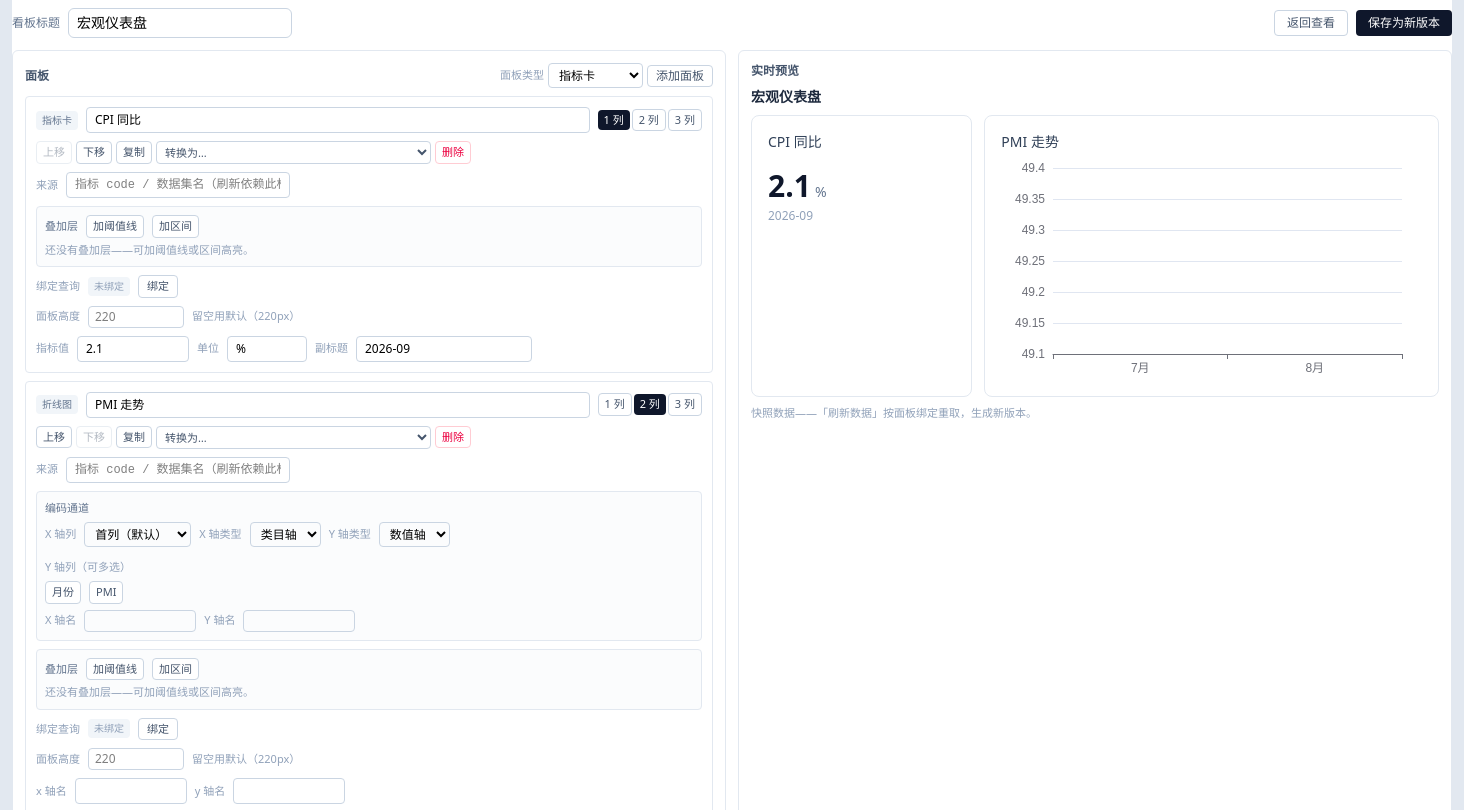
Test: DashboardEditor（基础编辑器 v1） › kpi 表单编辑：值（数字进 snapshot.rows[0][0]）/单位/副标题实时进预览
The image size is (1464, 810).
Replace the text in the field with test id "editor-kpi-value" with "3.4" at (133, 348), box [77, 336, 189, 362]
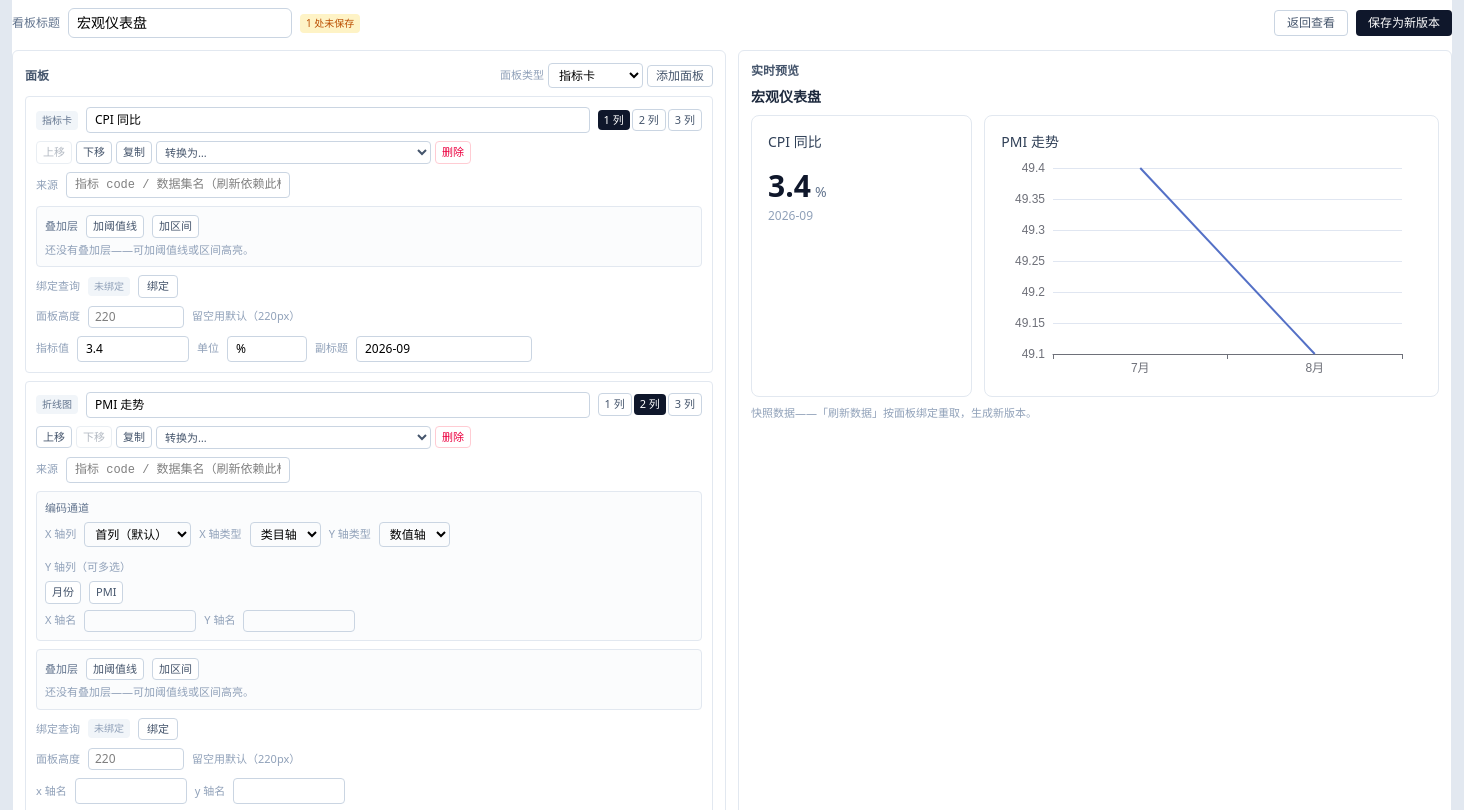
Replace the text in the field with test id "editor-kpi-unit" with "‰" at (267, 348), box [227, 336, 307, 362]
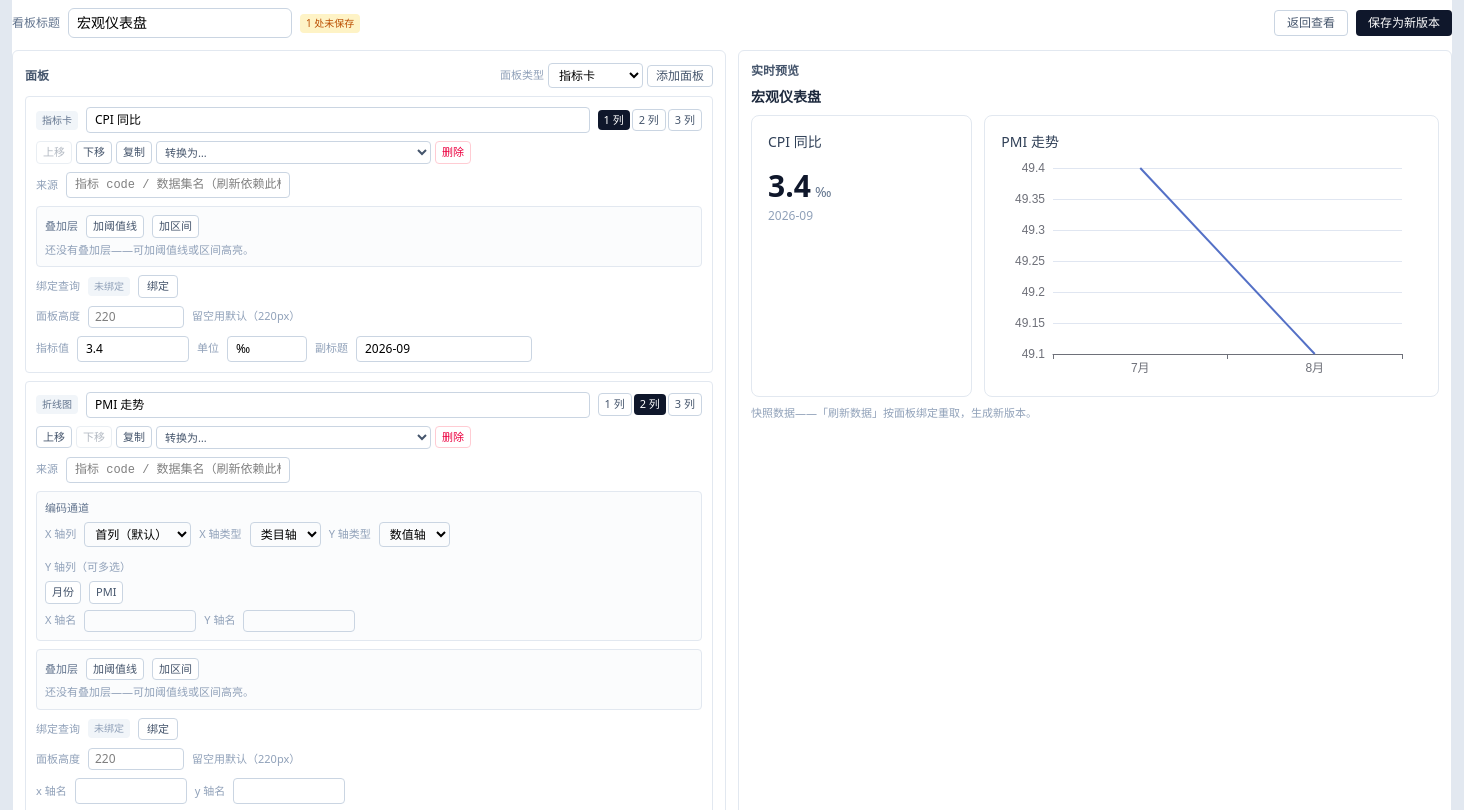
Replace the text in the field with test id "editor-kpi-subtitle" with "2026-10" at (444, 348), box [356, 336, 532, 362]
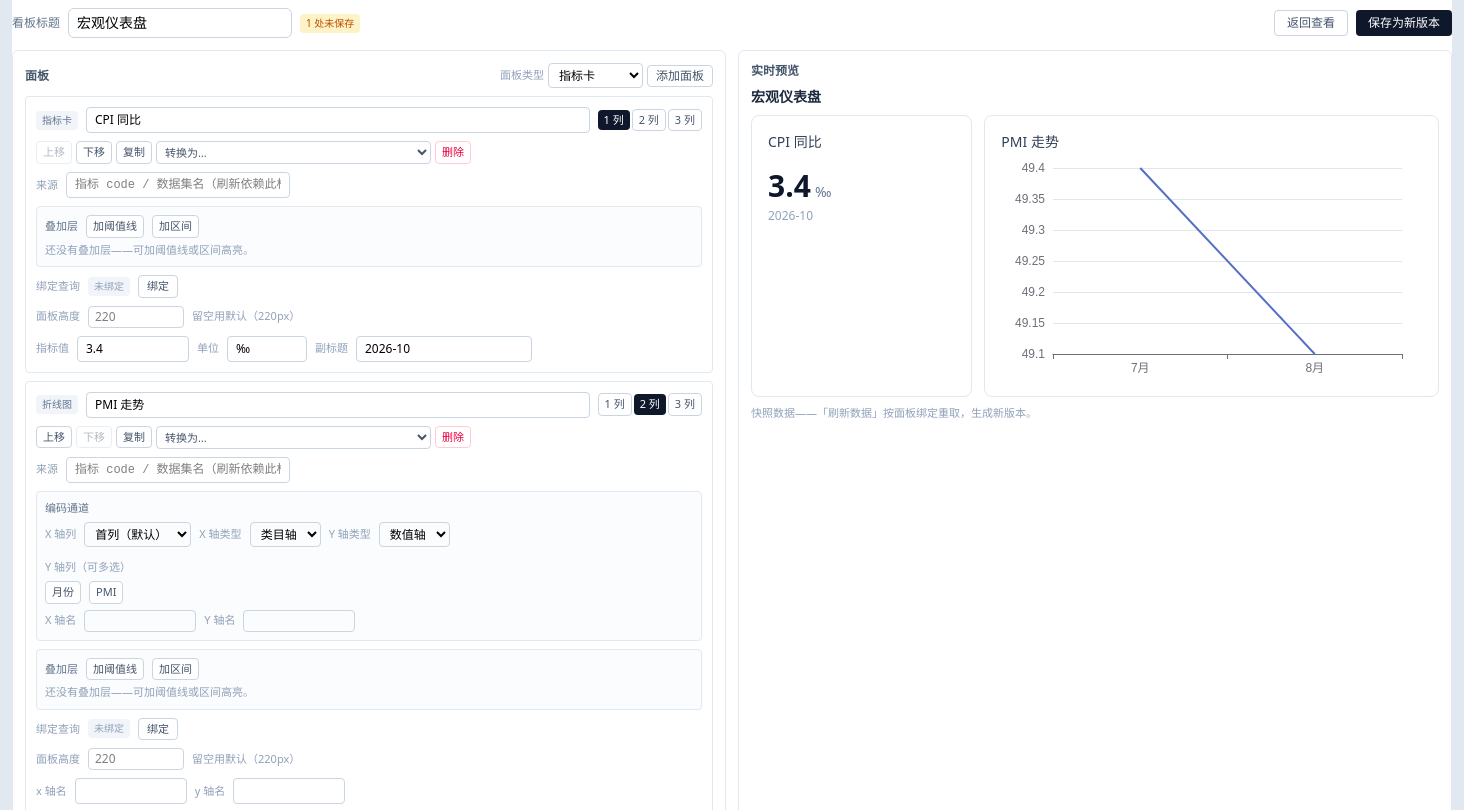
expect the text with test id "dashboard-kpi-value" reads "3.4": met, box [768, 165, 811, 206]
expect the text with test id "dashboard-kpi-unit" reads "‰": met, box [815, 182, 831, 201]
expect the text with test id "dashboard-kpi-subtitle" reads "2026-10": met, box [768, 207, 813, 224]
